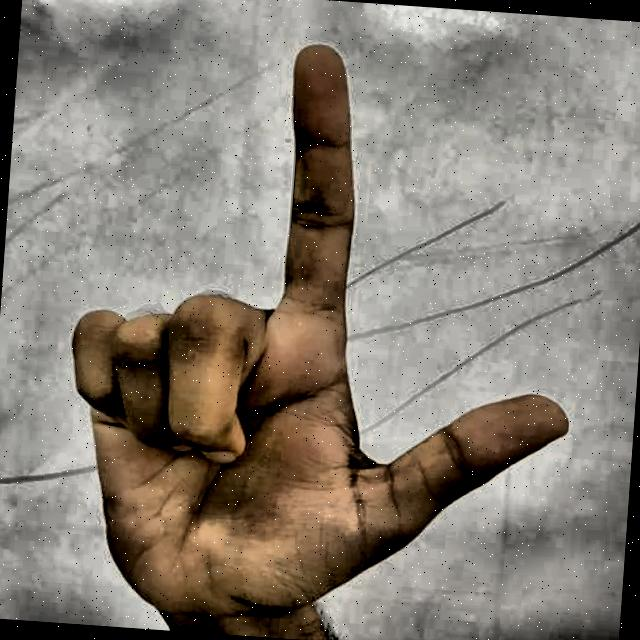La: (5, 0, 609, 640)
